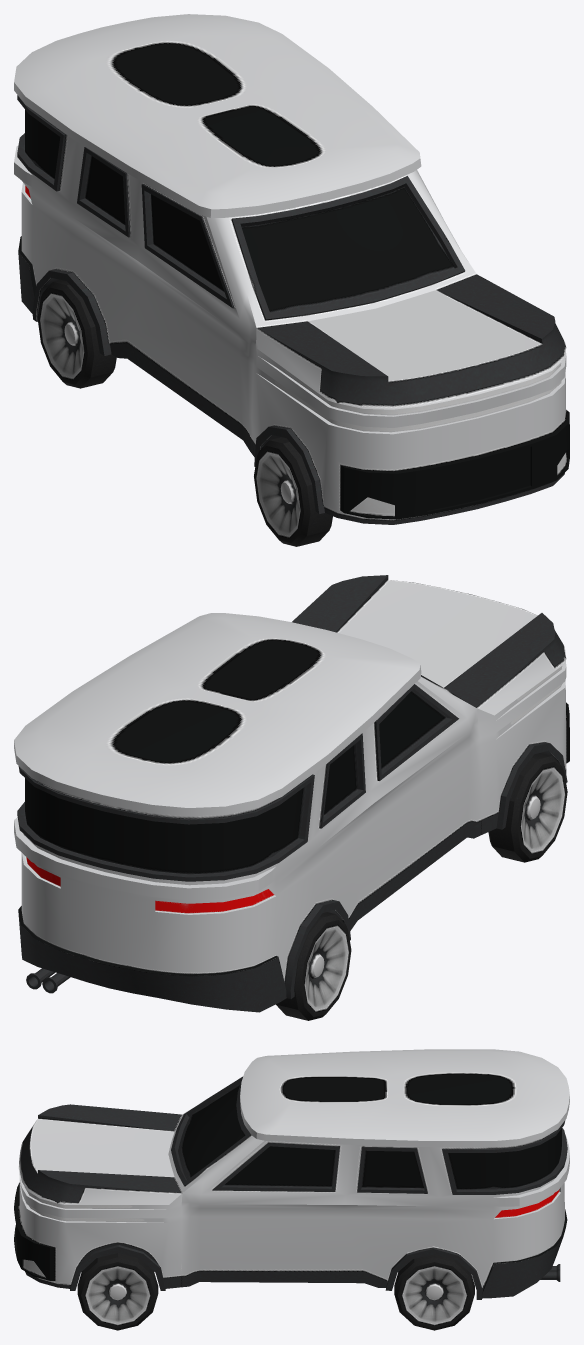
The model's file is Suv Car.fbx.
3 renders of one model, top to bottom at view 1: azimuth 30°, elevation 25°; view 2: azimuth 150°, elevation 25°; view 3: azimuth 270°, elevation 25°, orthographic. The views are drawn at different scales.
Visible parts, largest first — view 1: Cube.016; view 2: Cube.016; view 3: Cube.016.
Boxes of the visible parts, x1,y1,x2,y2 form: Cube.016: (14,14,569,546); Cube.016: (14,575,569,1020); Cube.016: (14,1049,569,1330).
Bounding box in the file's own units: 248 × 239 × 617.
